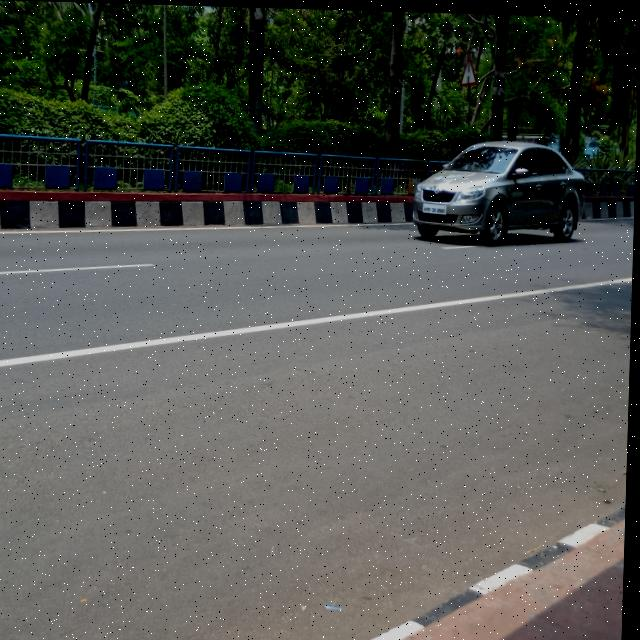car: (412, 121, 600, 266)
